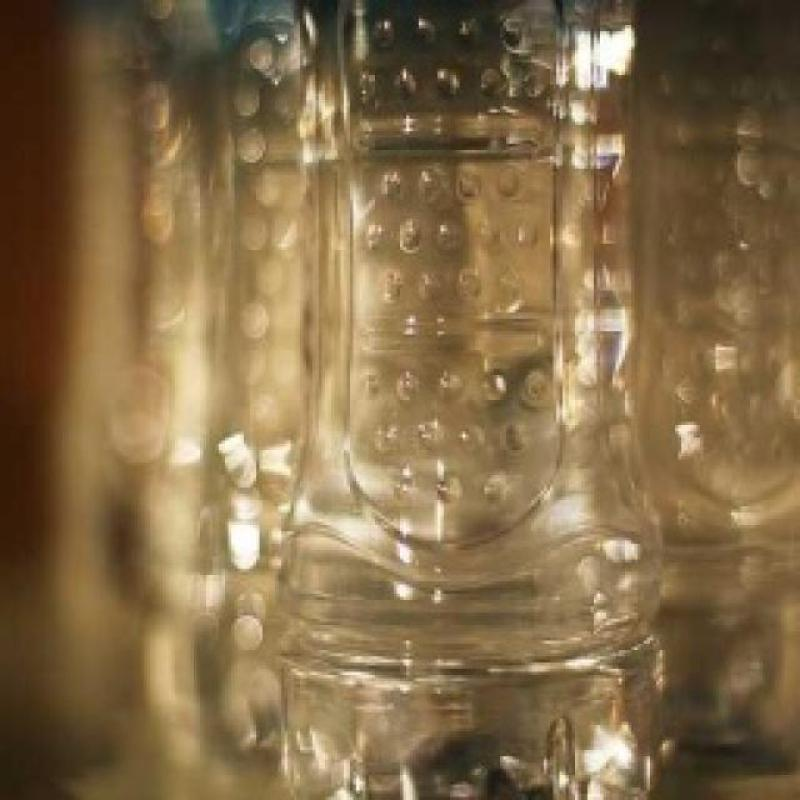botella: (286, 0, 665, 800), (619, 0, 800, 778), (156, 0, 296, 800)
